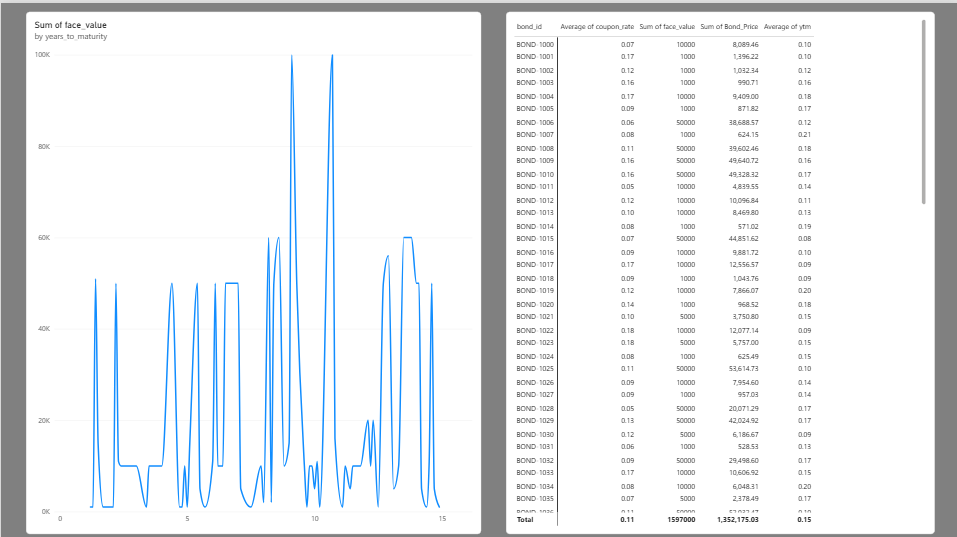

Layout of this report page (visuals, bound fields, positions):
{"tool":"powerbi","page":{"name":"Page 4","canvas":[1920,1080],"ordinal":3},"visuals":[{"type":"pivotTable","fields":{"Rows":["financial_calculated_results.bond_id"],"Values":["Avg(financial_calculated_results.coupon_rate)","Sum(financial_calculated_results.face_value)","Sum(financial_calculated_results.Bond_Price)","Avg(financial_calculated_results.ytm)"]},"box":[1010,17.5,857.5,1045],"z":0},{"type":"lineChart","fields":{"Category":["financial_calculated_results.years_to_maturity"],"Y":["Sum(financial_calculated_results.face_value)"]},"box":[50,17.5,910,1045],"z":1000}]}

Visuals, with their boxes in screenshot pixels (x1, y1, x2, y2), scaled from the page's 1920x1080 canvas onto the 957x537 screenshot:
pivotTable - financial_calculated_results.bond_id x Avg(financial_calculated_results.coupon_rate): <box>503,9,931,528</box>
lineChart - financial_calculated_results.years_to_maturity x Sum(financial_calculated_results.face_value): <box>25,9,478,528</box>
